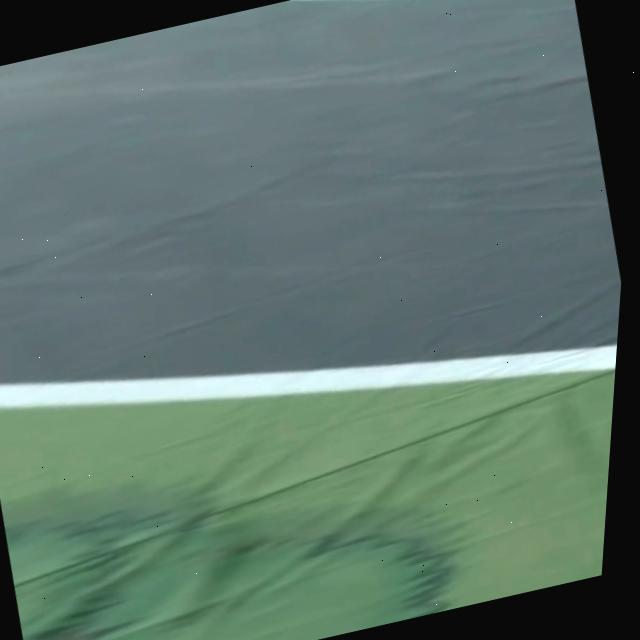right: (0, 343, 617, 408)
